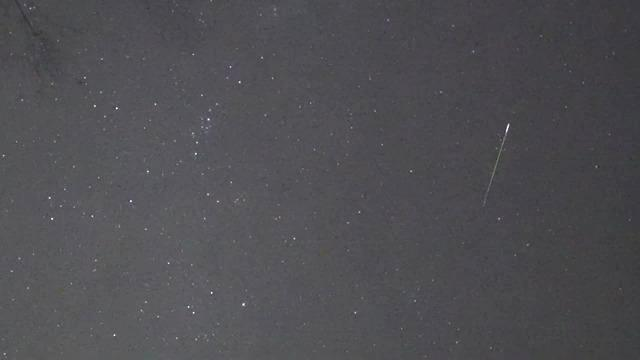meteorite: (464, 115, 520, 212)
